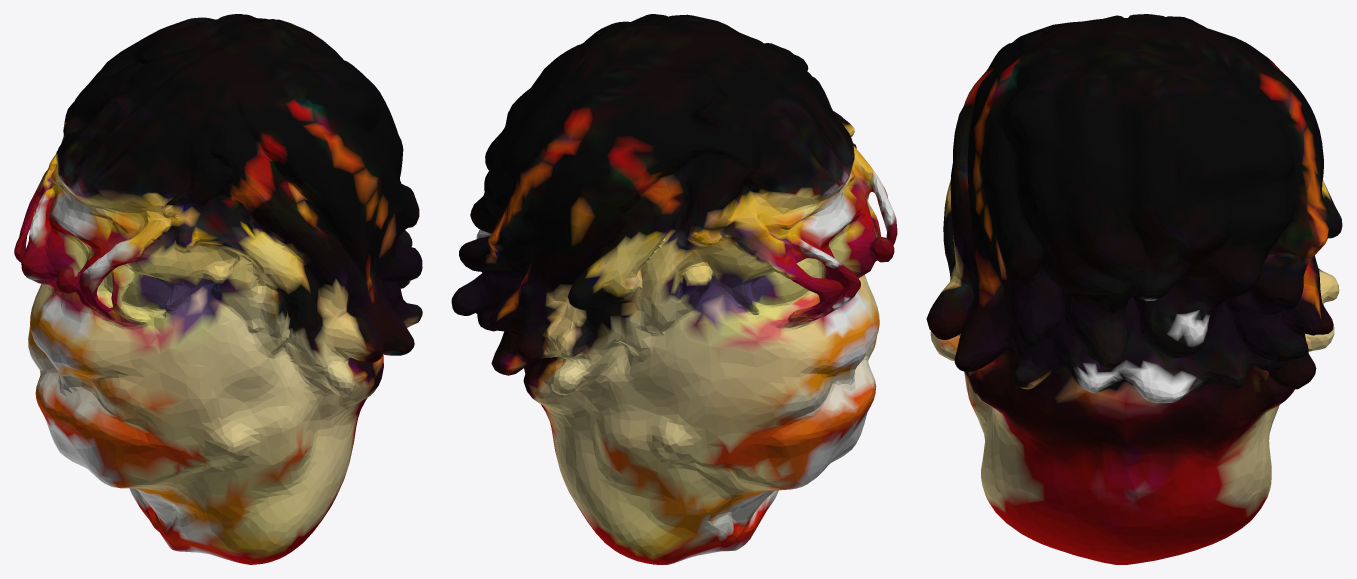
File: head.glb
3 views of the same model, side by side, from view 1: azimuth 30°, elevation 25°; view 2: azimuth 150°, elevation 25°; view 3: azimuth 270°, elevation 25° (orthographic). The views are drawn at different scales.
Visible parts, largest first — view 1: geometry_0; view 2: geometry_0; view 3: geometry_0.
Boxes of the visible parts, box(x1,y1,x2,y2) form: geometry_0: box(14, 14, 422, 564); geometry_0: box(451, 14, 897, 564); geometry_0: box(926, 14, 1342, 564).
Size of the model in its own units: 0.5 by 0.654 by 0.4666.
